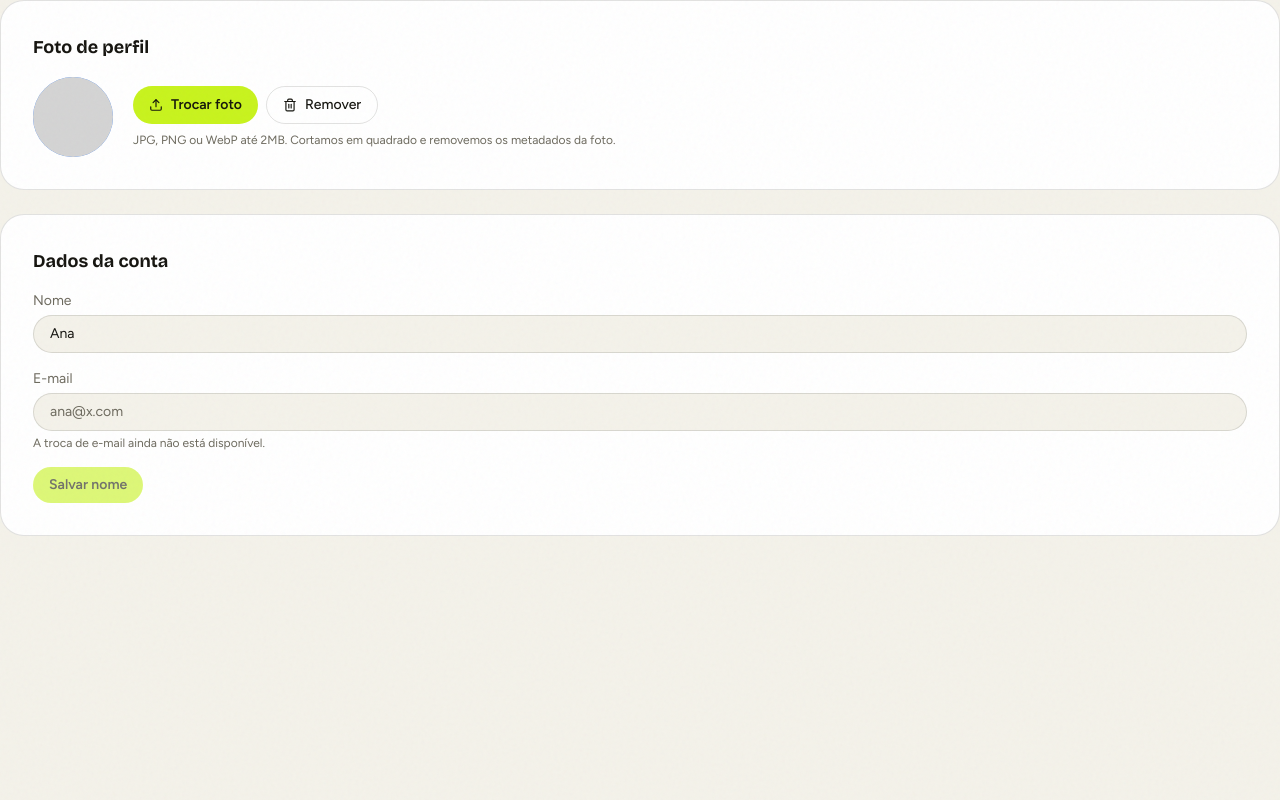
Scenario: AccountSettings › remove a foto própria
Click the button "Remover" at {"x": 322, "y": 105}, box [266,86,378,124]
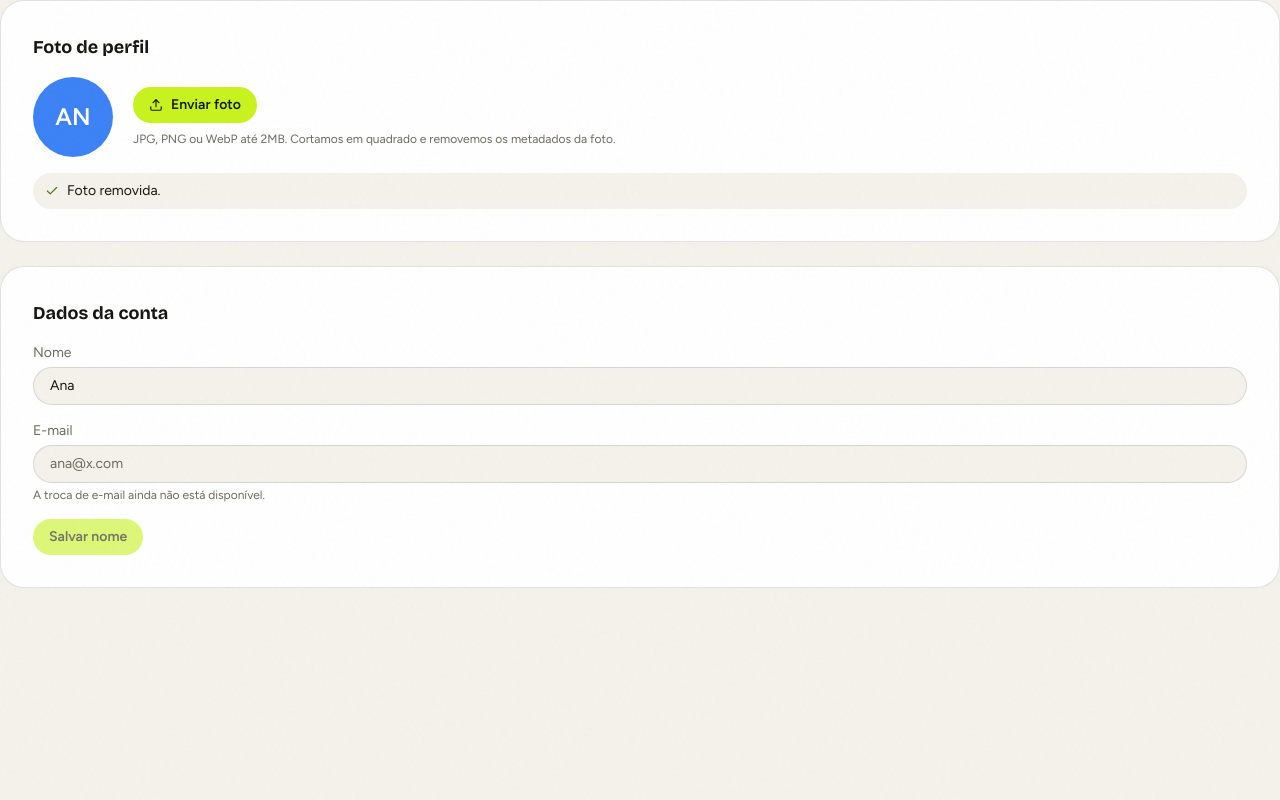
Now the text "Foto removida." is shown, box [33,173,1247,209]
Now the picture is gone
